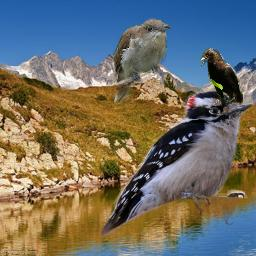Crow: (199, 48, 243, 107)
Cuckoo: (111, 18, 171, 104)
Woodpecker: (101, 91, 253, 239)
